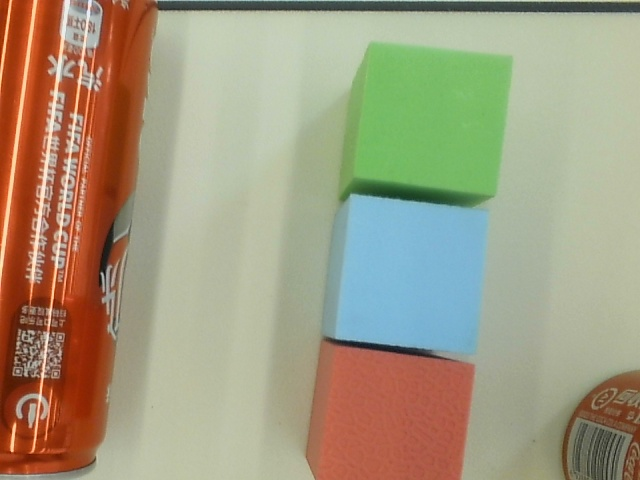bluecube: (321, 190, 492, 356)
cola: (1, 1, 162, 480), (552, 362, 640, 480)
greencube: (336, 39, 516, 208)
redcube: (298, 334, 481, 480)
